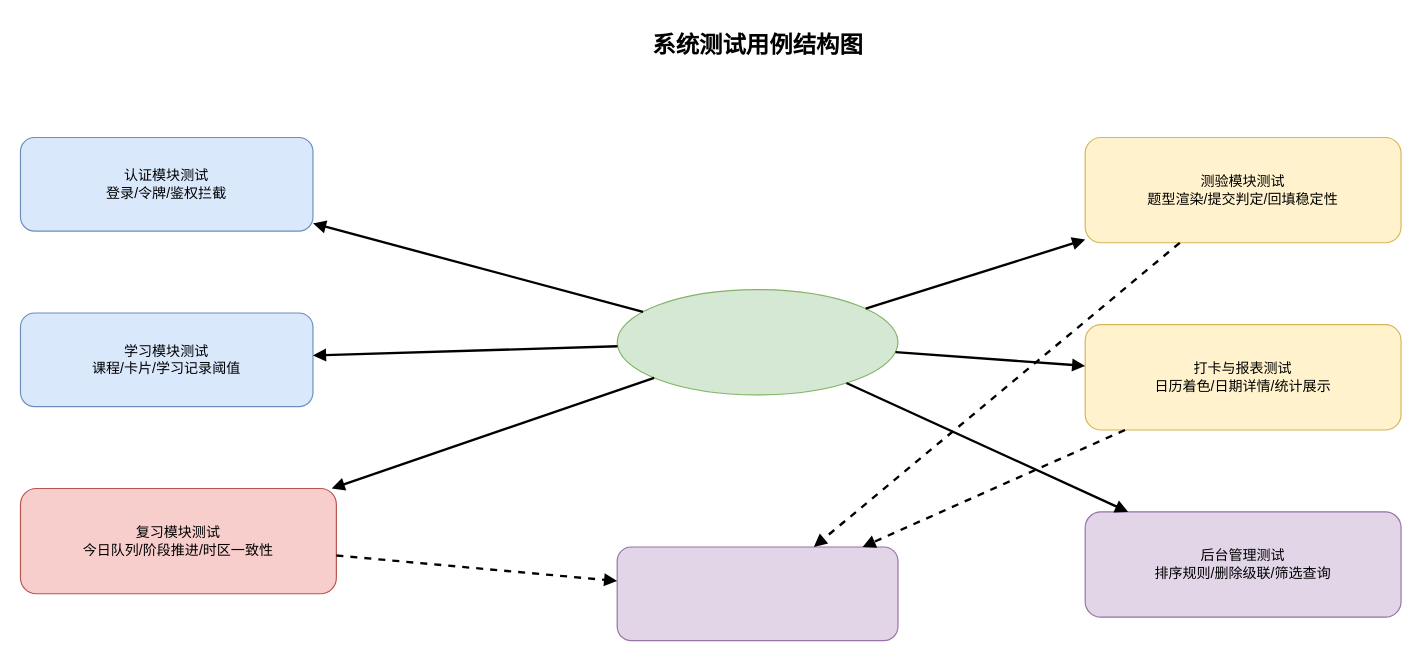
Image size: 1422x661. Some labels were removed from this diagram. The box of each missing label's shape, as (x1, y1, x2, y2) in pixels:
回归测试集合 已修复缺陷复测（重点）: (616, 546, 898, 641)
测试总集 Study System Test Suite: (616, 288, 898, 395)
